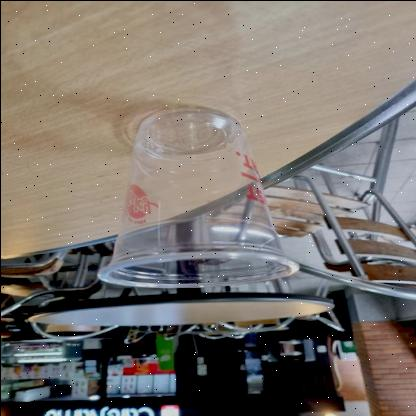Others: (90, 100, 304, 294)
